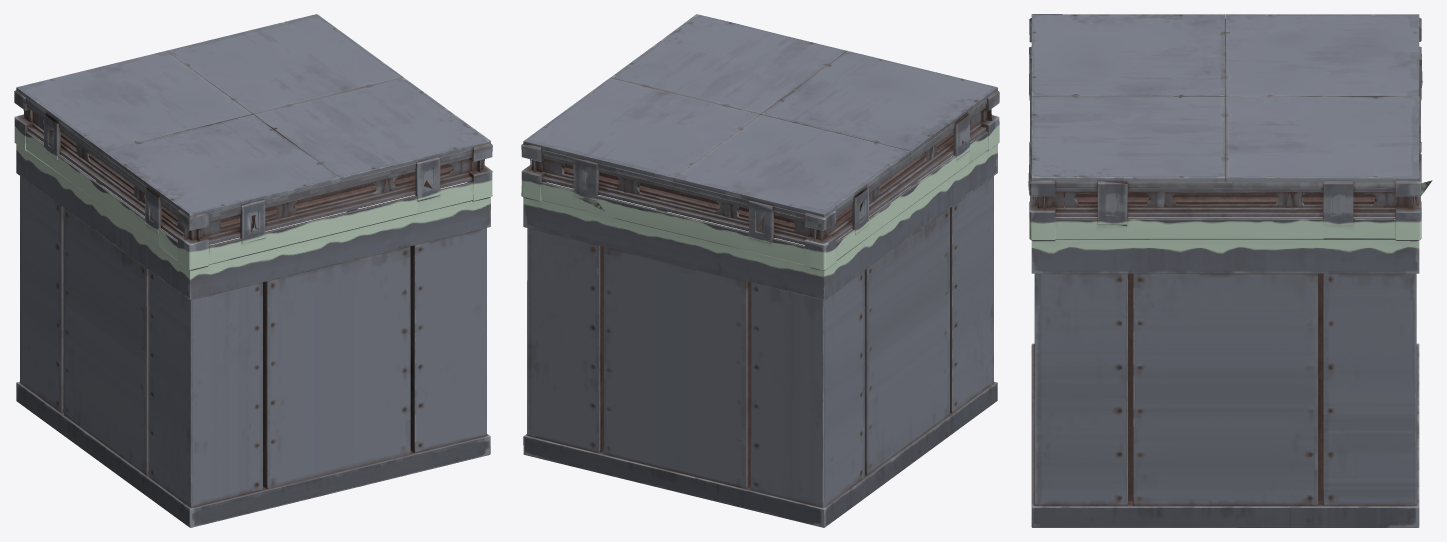
Rendered from Floor_Metal_C.glb.
The picture shows the model from 3 angles, left to right: view 1: azimuth 30°, elevation 25°; view 2: azimuth 150°, elevation 25°; view 3: azimuth 270°, elevation 25°; orthographic projection. The views are drawn at different scales.
Visible parts, largest first — view 1: SM_Metal_FloorSquare; view 2: SM_Metal_FloorSquare; view 3: SM_Metal_FloorSquare.
Boxes of the visible parts, left/top/right/bottom form: SM_Metal_FloorSquare: left=14, top=14, right=492, bottom=527; SM_Metal_FloorSquare: left=521, top=14, right=999, bottom=527; SM_Metal_FloorSquare: left=1028, top=14, right=1432, bottom=527.
Size of the model in its own units: 3.06 by 2.99 by 3.13.
1 material, 1 textured.
